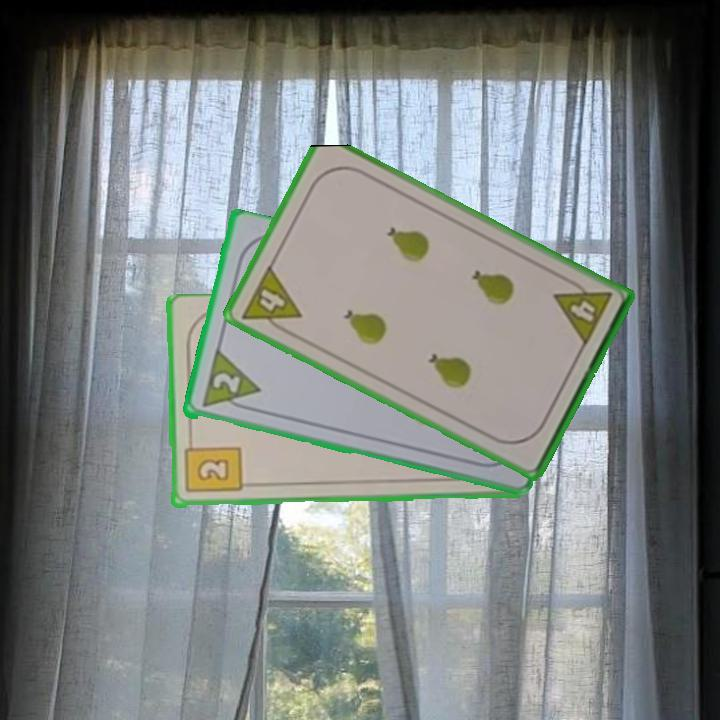2b: (181, 435, 243, 496)
2p: (198, 348, 263, 416)
4p: (237, 261, 304, 339), (550, 273, 615, 349)
